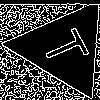T: (39, 23, 100, 70)
